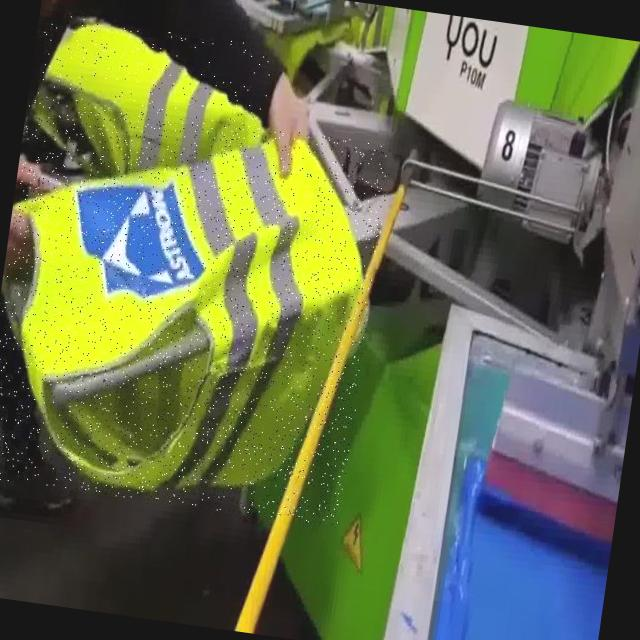vest: (0, 95, 393, 528), (24, 12, 274, 194)
